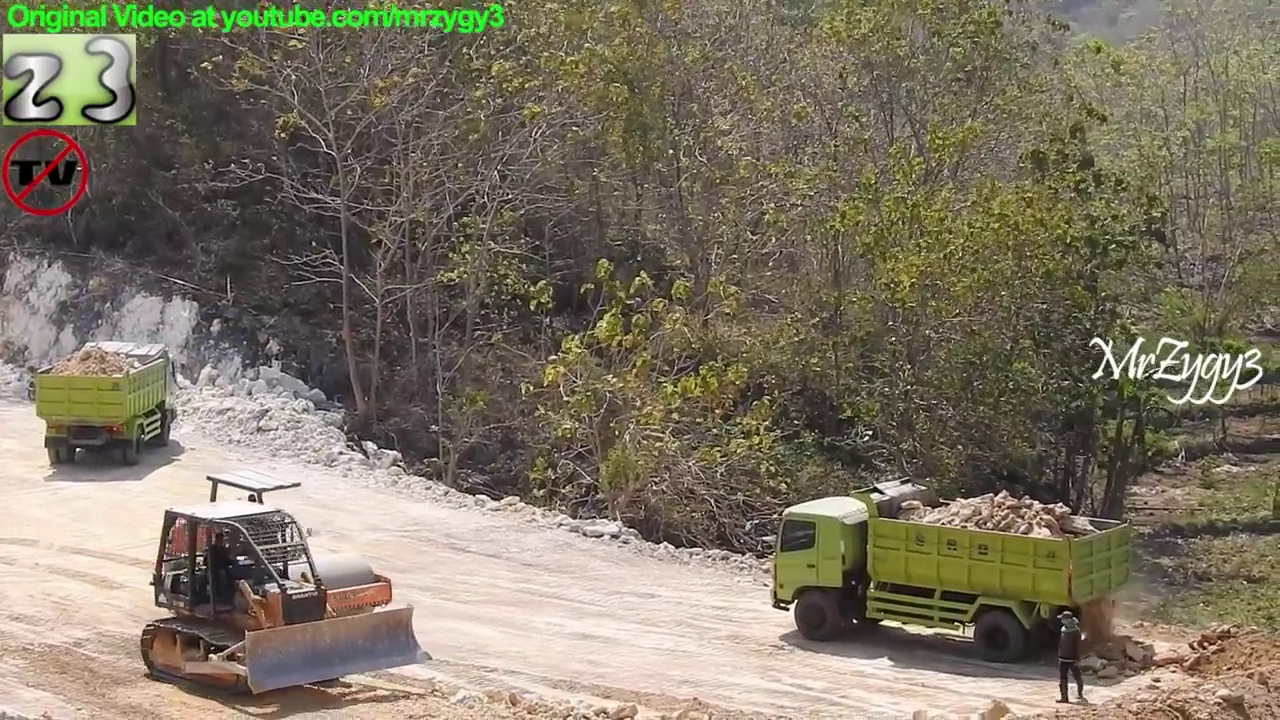bulldozer: (138, 502, 438, 705)
compactor: (153, 465, 398, 637)
truck: (764, 475, 1134, 665), (27, 337, 186, 469)
